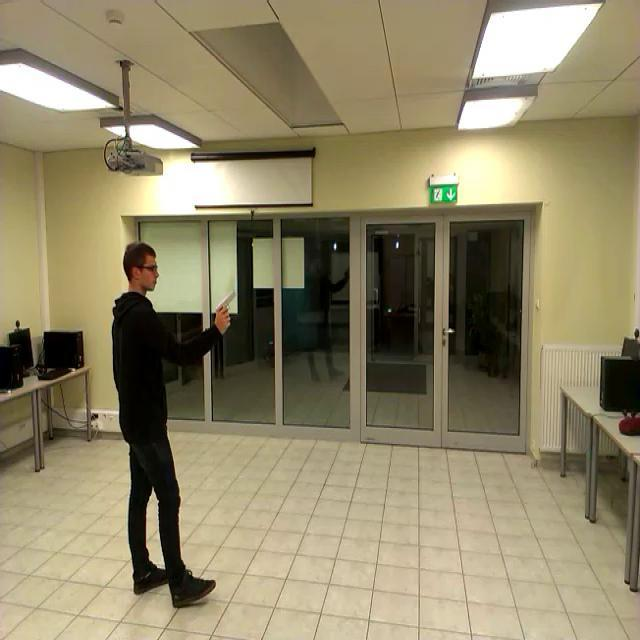Gun: (214, 288, 234, 323)
